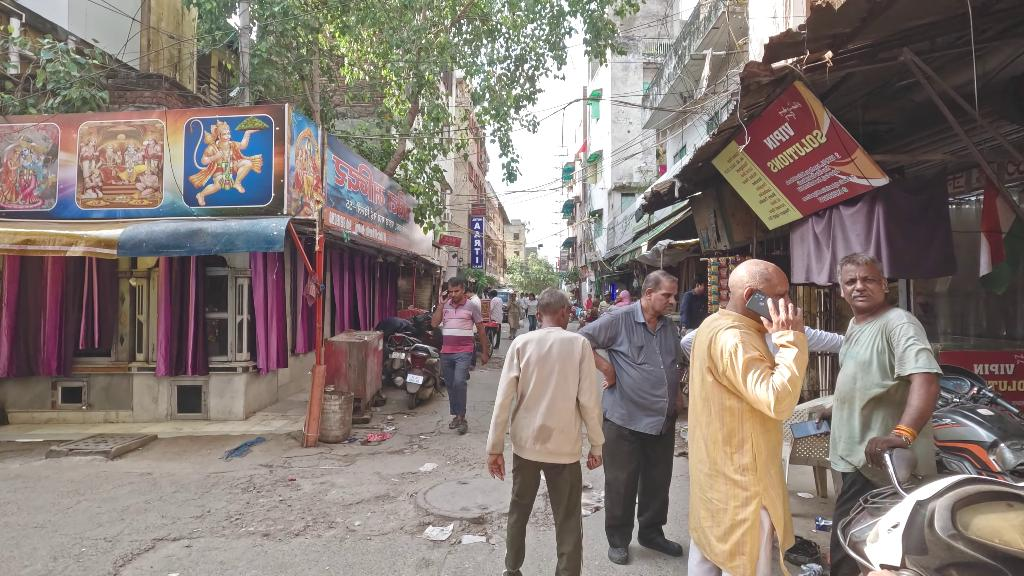garbage: (417, 519, 456, 547), (357, 421, 393, 445)
